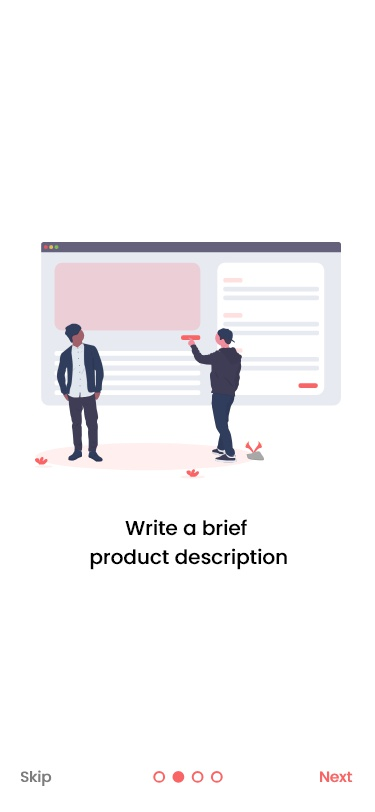Image: (35, 242, 342, 479)
PageIndicator: (153, 769, 224, 784)
Text: (90, 518, 289, 571), (21, 769, 53, 787), (319, 770, 353, 783)
